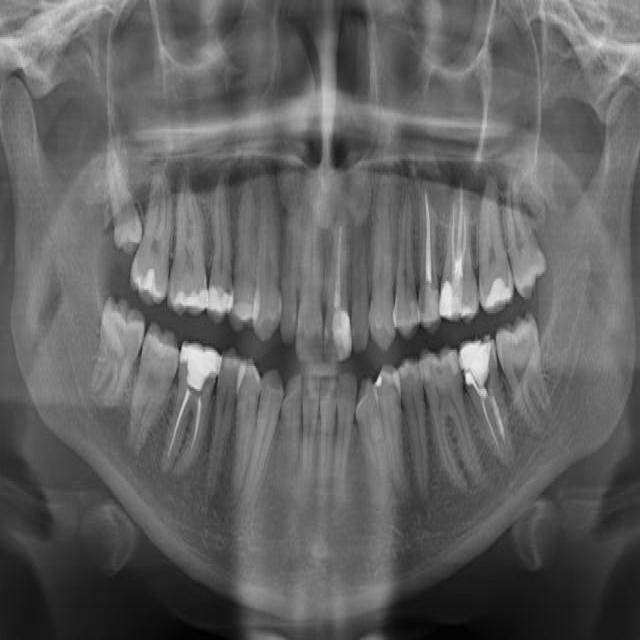dolgu: (437, 261, 478, 328), (458, 327, 502, 388), (172, 267, 212, 316), (123, 263, 164, 305), (326, 308, 356, 363), (206, 273, 233, 330), (478, 263, 514, 305)
kanal-tedavisi: (466, 378, 513, 460), (168, 391, 208, 462), (448, 180, 471, 278), (423, 195, 440, 289), (329, 229, 349, 305)
kaplama: (179, 334, 221, 398)
